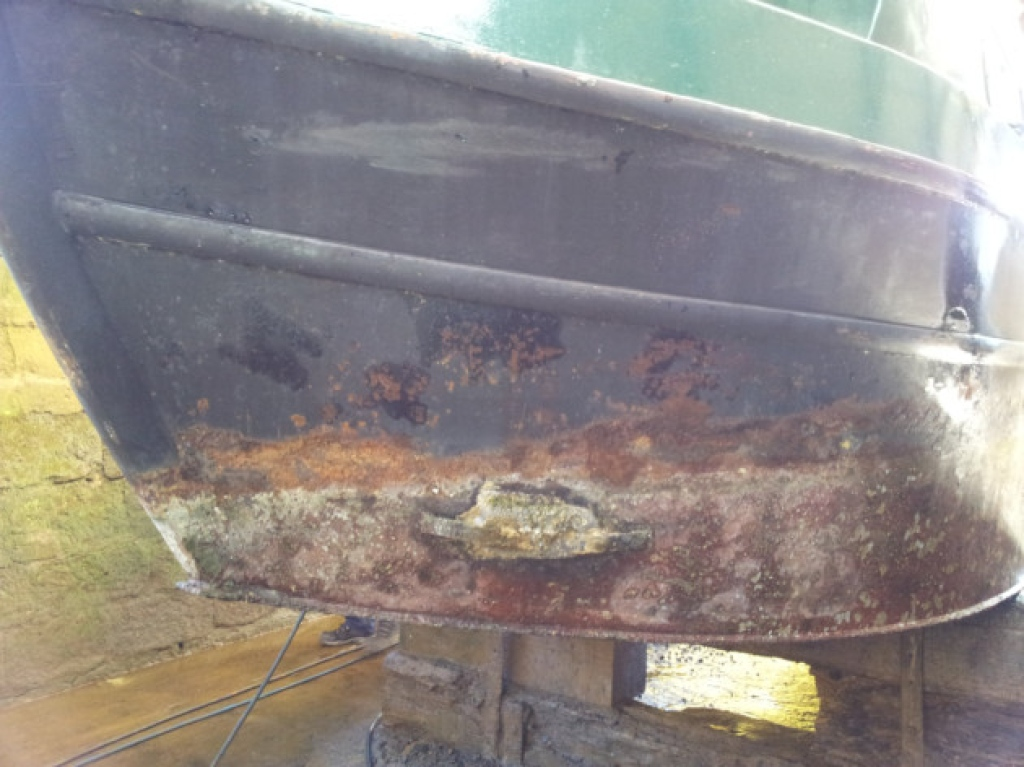rust: (661, 505, 995, 613), (192, 431, 448, 492)
